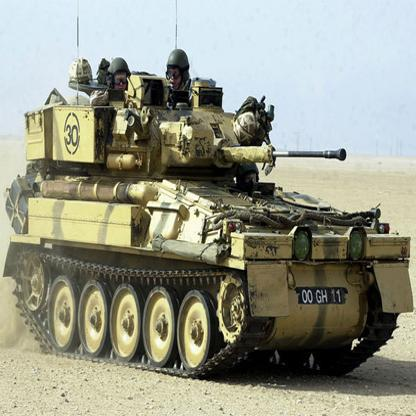Tank: (2, 49, 416, 381)
